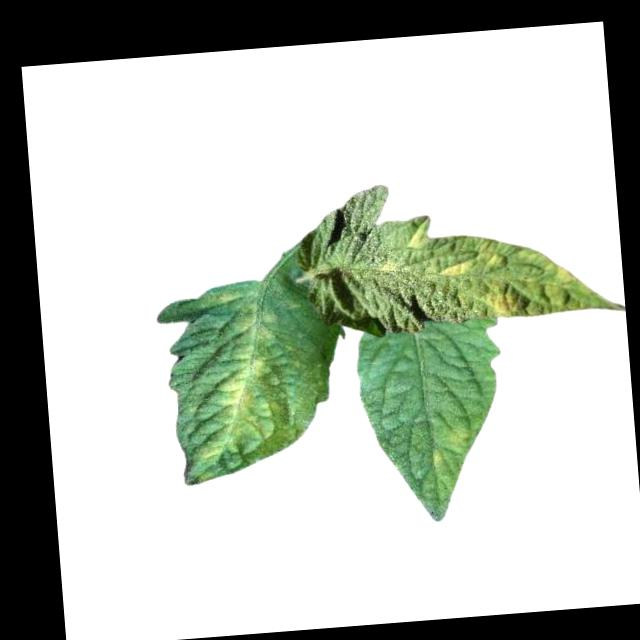Leaf_Mold: (188, 279, 295, 463), (431, 227, 605, 324), (428, 421, 477, 471)
